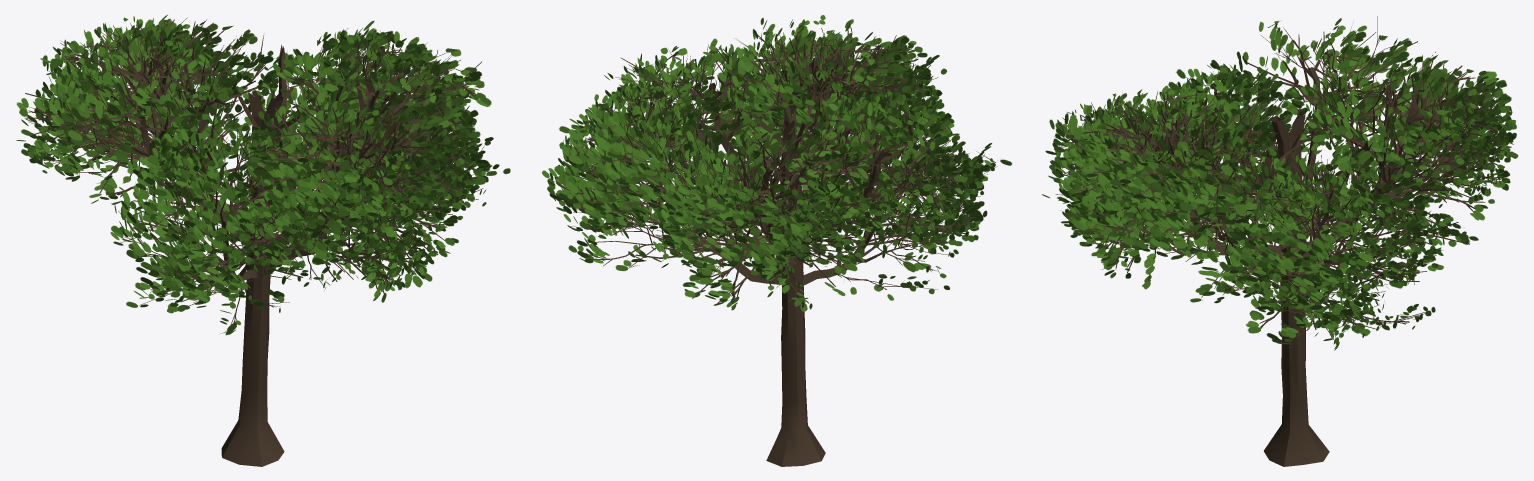
The picture shows the model from 3 angles, left to right: view 1: azimuth 30°, elevation 25°; view 2: azimuth 150°, elevation 25°; view 3: azimuth 270°, elevation 25°; orthographic projection. The views are drawn at different scales.
Visible parts, largest first — view 1: oak 01.001_trunk_Mat.001_0.010; view 2: oak 01.001_trunk_Mat.001_0.010; view 3: oak 01.001_trunk_Mat.001_0.010.
Part boxes in pixels (<box>): oak 01.001_trunk_Mat.001_0.010: <box>16,14,510,466</box>; oak 01.001_trunk_Mat.001_0.010: <box>542,15,1011,466</box>; oak 01.001_trunk_Mat.001_0.010: <box>1041,16,1518,466</box>.
Size of the model in its own units: 5.67 by 4.63 by 5.49.
Materials: 2 (1 with a texture image).
